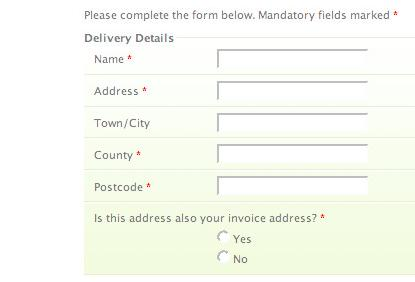field: (214, 143, 370, 166), (215, 111, 370, 134), (216, 47, 370, 70), (215, 80, 371, 102), (215, 175, 370, 197)
field_with_label: (93, 109, 372, 137), (94, 45, 372, 72), (93, 78, 373, 103), (93, 142, 372, 167), (93, 173, 372, 198)
radio: (215, 247, 232, 268), (215, 228, 230, 247)
radio_with_label: (212, 226, 254, 248), (212, 245, 248, 270)
